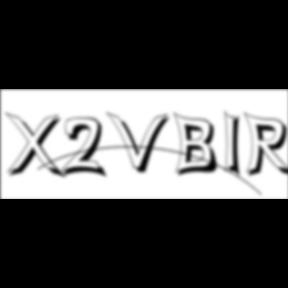2: (61, 117, 111, 181)
B: (174, 111, 224, 179)
V: (106, 110, 174, 176)
X: (5, 112, 69, 182)
l: (224, 108, 248, 182)
